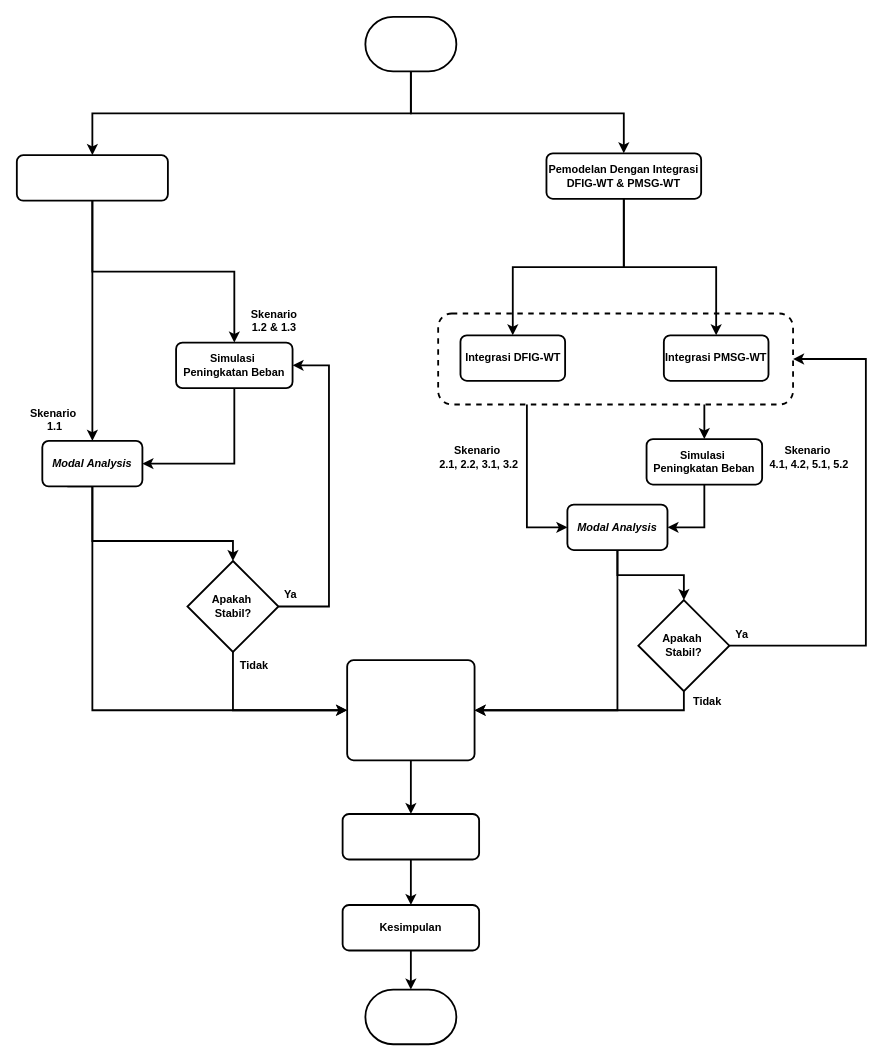
Image size: 889x1060. Some labels were removed from this diagram. The centre of each missing label's shape, as x and y in pixels:
"Analisis Eigenvalue , Damping Ratio , Frekuensi Osilasi, & Participation Factor" goes at pixel 410 710.
"Mulai" goes at pixel 410 43.
"Pemodelan Tanpa Integrasi DFIG-WT & PMSG-WT" goes at pixel 91 177.
"Perbandingan Hasil Stabilitas Antar Skenario" goes at pixel 410 836.
"Selesai" goes at pixel 410 1016.
